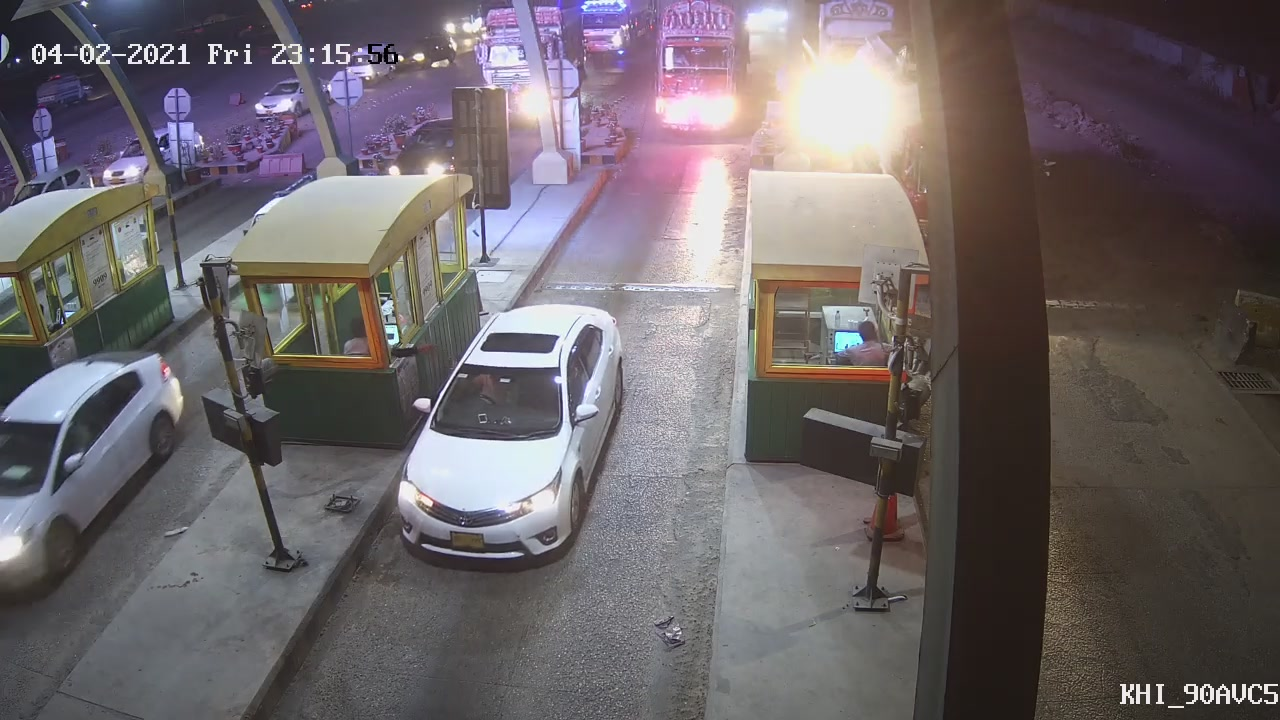F1: (388, 300, 629, 562)
